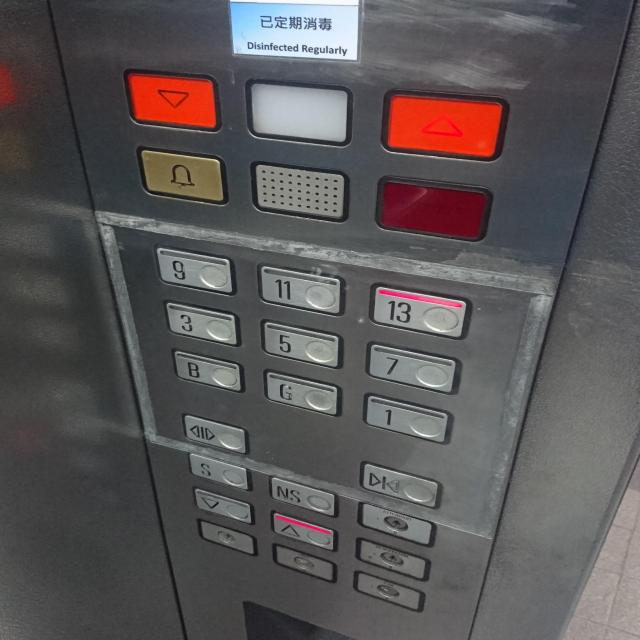1: (361, 391, 453, 446)
11: (254, 256, 346, 320)
13: (368, 277, 474, 339)
3: (161, 300, 241, 348)
5: (258, 315, 342, 370)
7: (364, 337, 462, 397)
9: (151, 241, 237, 298)
B: (169, 346, 248, 394)
G: (261, 368, 340, 418)
NS: (266, 472, 340, 516)
S: (186, 451, 253, 488)
alarm: (134, 141, 230, 208)
bt_keyhole: (192, 517, 259, 557), (352, 574, 424, 609), (354, 540, 426, 573), (358, 507, 430, 539), (272, 547, 337, 580)
close: (357, 455, 441, 509)
down: (120, 63, 224, 136), (191, 487, 254, 524)
empty: (242, 73, 356, 150), (374, 172, 494, 245)
open: (178, 408, 251, 457)
speaker: (247, 156, 351, 226)
up: (378, 82, 511, 166), (269, 508, 336, 550)
